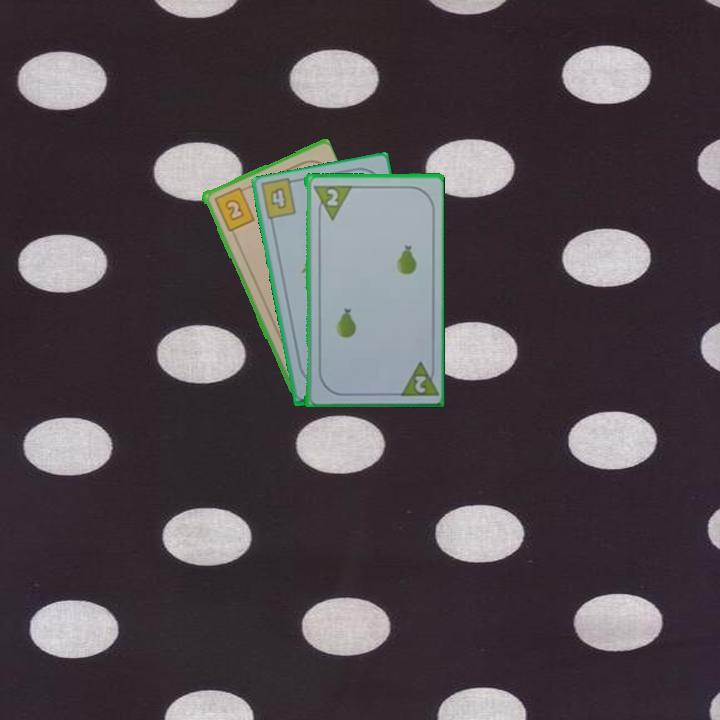2b: (210, 183, 257, 234)
2p: (309, 182, 352, 222), (411, 372, 428, 395)
4b: (266, 183, 289, 212)
